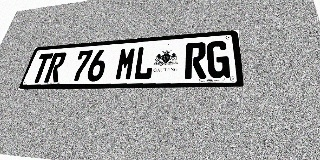6: (86, 49, 109, 82)
7: (70, 50, 93, 82)
G: (207, 40, 230, 78)
L: (133, 46, 155, 80)
M: (114, 47, 137, 81)
R: (185, 42, 206, 79), (44, 52, 67, 83)
T: (30, 53, 54, 83)
